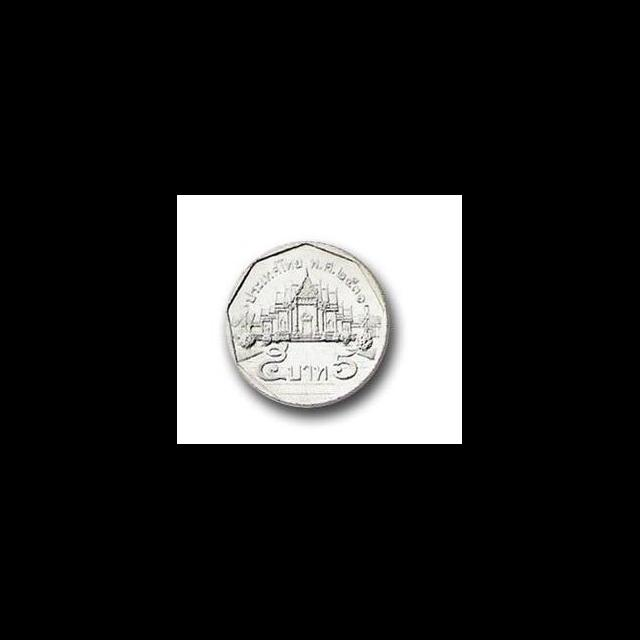5-baht: (212, 232, 414, 423)
